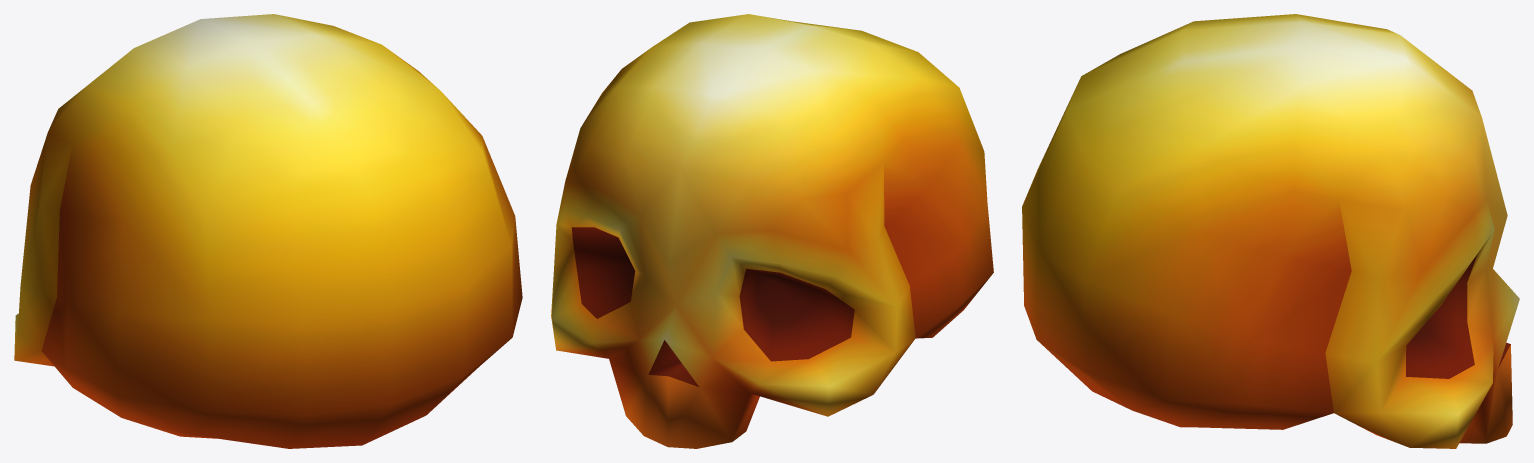
Rendered from goldSkull.fbx.
3 renders of one model, left to right at view 1: azimuth 30°, elevation 25°; view 2: azimuth 150°, elevation 25°; view 3: azimuth 270°, elevation 25°, orthographic. The views are drawn at different scales.
Visible parts, largest first — view 1: goldSkull; view 2: goldSkull; view 3: goldSkull.
Boxes of the visible parts, box(x1,y1,x2,y2) form: goldSkull: box(14, 14, 522, 448); goldSkull: box(551, 14, 993, 448); goldSkull: box(1022, 14, 1519, 448).
Bounding box in the file's own units: 5.06 × 4.34 × 5.18.
